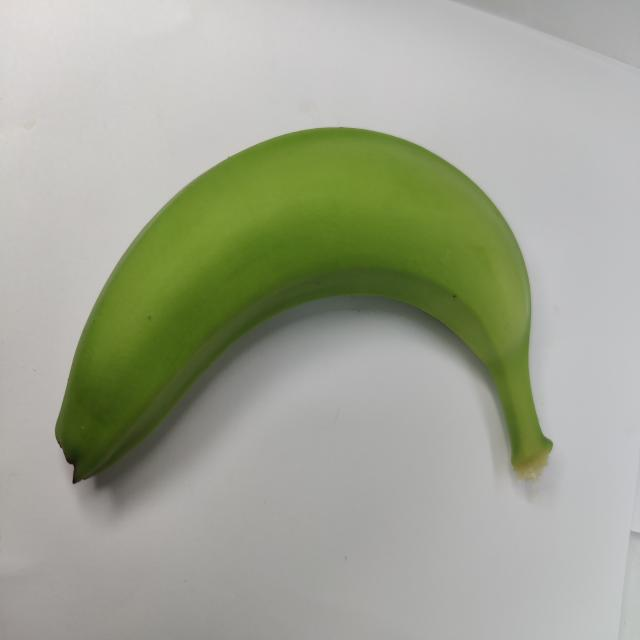raw: (42, 114, 566, 551)
